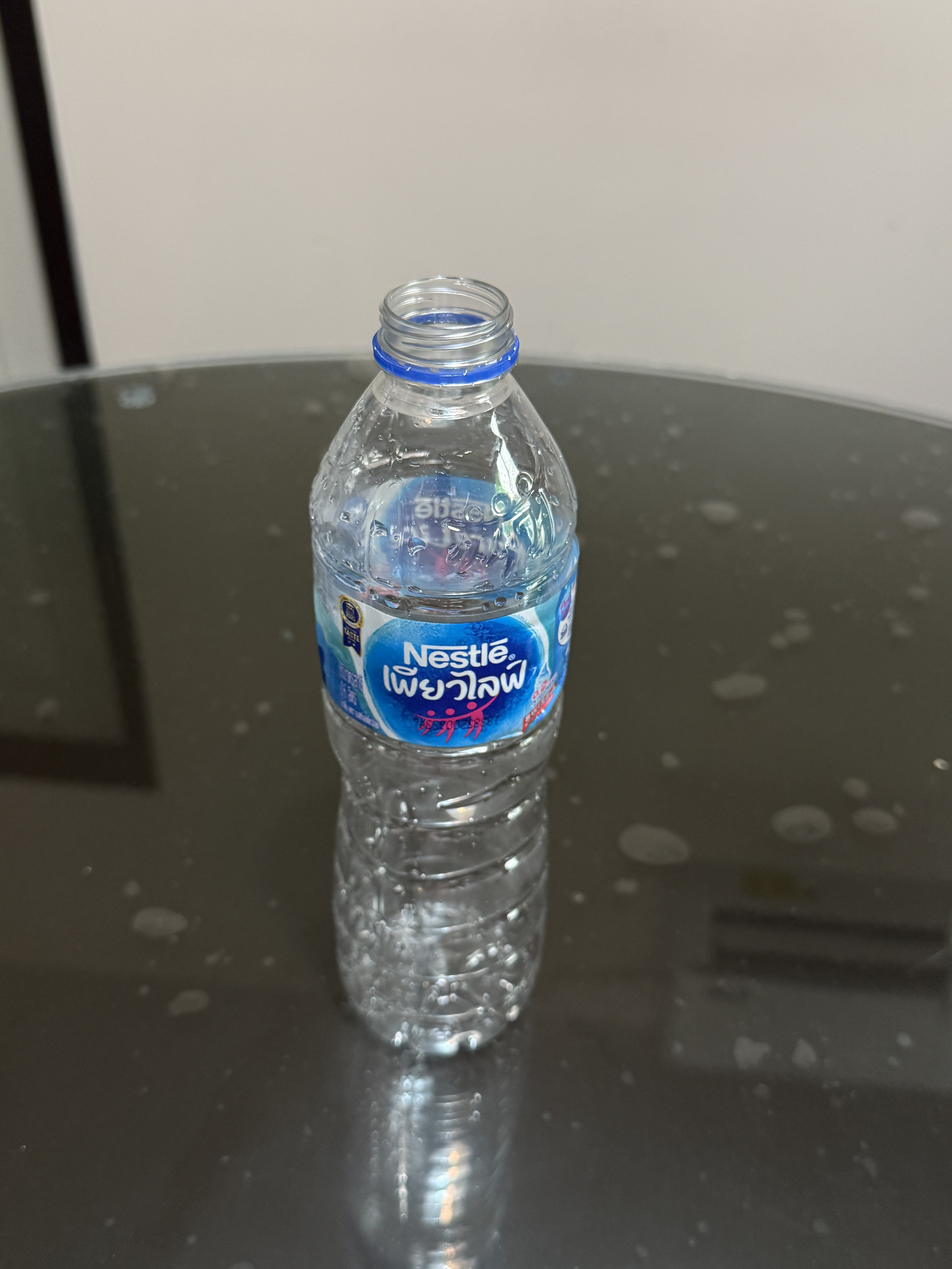no_cap: (367, 271, 523, 391)
